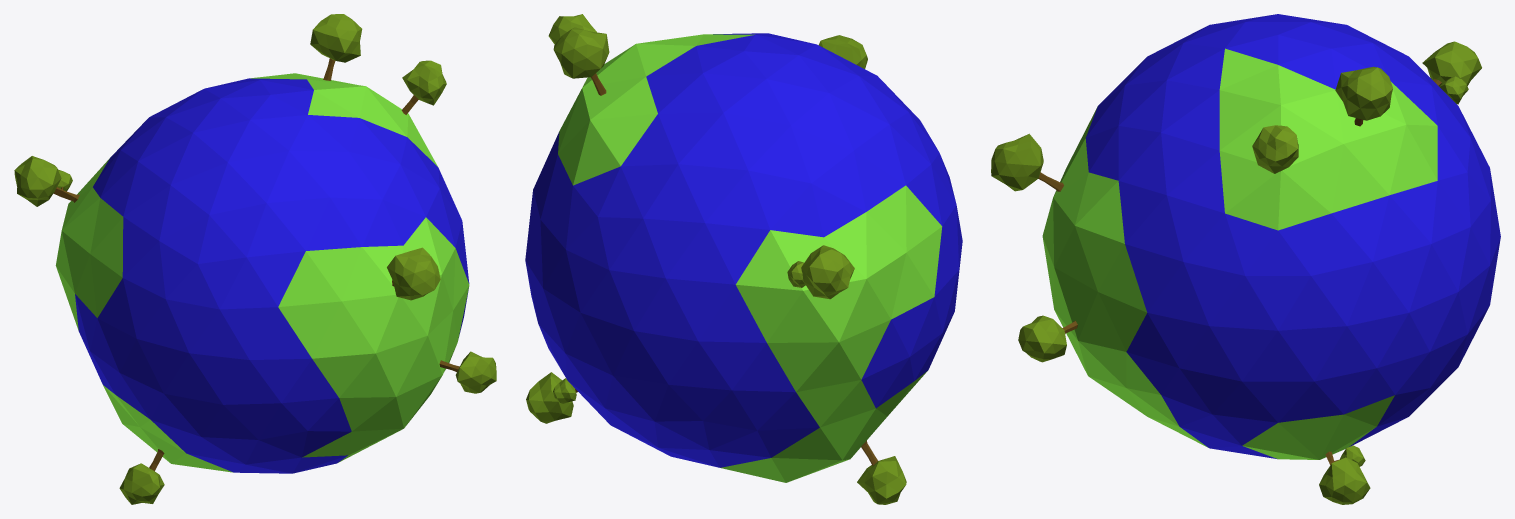
File: globo.fbx
3 views of the same model, side by side, from view 1: azimuth 30°, elevation 25°; view 2: azimuth 150°, elevation 25°; view 3: azimuth 270°, elevation 25° (orthographic). The views are drawn at different scales.
Parts seen in each view (by area): view 1: Esfera icosaédrica, Cilindro, Cilindro.006, Cilindro.002, Cilindro.005, Cilindro.001, Cilindro.004; view 2: Esfera icosaédrica, Cilindro.006, Cilindro, Cilindro.003, Cilindro.001, Cilindro.002, Cilindro.005; view 3: Esfera icosaédrica, Cilindro, Cilindro.002, Cilindro.006, Cilindro.003, Cilindro.004, Cilindro.005.
Part boxes in pixels (<box>): Esfera icosaédrica: <box>55,73,469,473</box>; Cilindro: <box>310,14,362,80</box>; Cilindro.006: <box>14,156,79,206</box>; Cilindro.002: <box>387,247,440,300</box>; Cilindro.005: <box>401,60,446,114</box>; Cilindro.001: <box>119,449,164,504</box>; Cilindro.004: <box>439,351,496,393</box>; Esfera icosaédrica: <box>525,33,962,482</box>; Cilindro.006: <box>787,245,854,299</box>; Cilindro: <box>553,27,609,95</box>; Cilindro.003: <box>526,372,577,423</box>; Cilindro.001: <box>857,440,906,504</box>; Cilindro.002: <box>819,35,867,68</box>; Cilindro.005: <box>548,14,596,44</box>; Esfera icosaédrica: <box>1042,14,1500,459</box>; Cilindro: <box>1335,66,1392,126</box>; Cilindro.002: <box>991,133,1063,191</box>; Cilindro.006: <box>1422,41,1481,104</box>; Cilindro.003: <box>1319,445,1370,504</box>; Cilindro.004: <box>1018,315,1077,362</box>; Cilindro.005: <box>1252,125,1298,173</box>.
Bounding box in the file's own units: 98.04 × 108 × 111.
